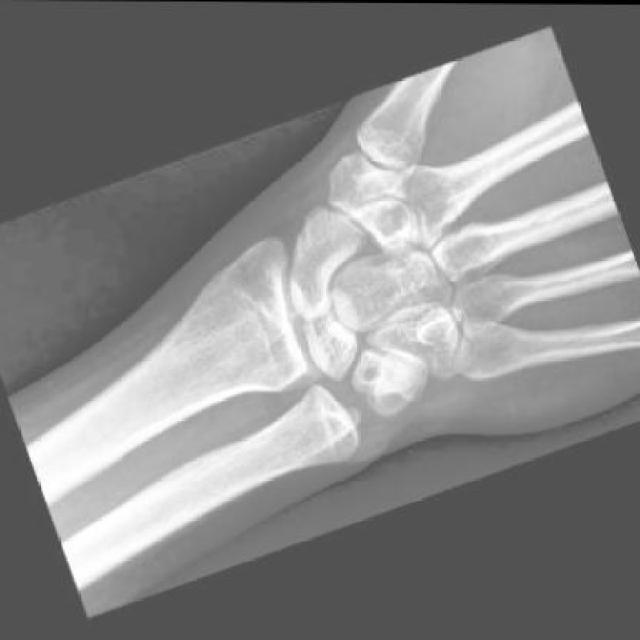Fracture: (286, 208, 343, 278)
